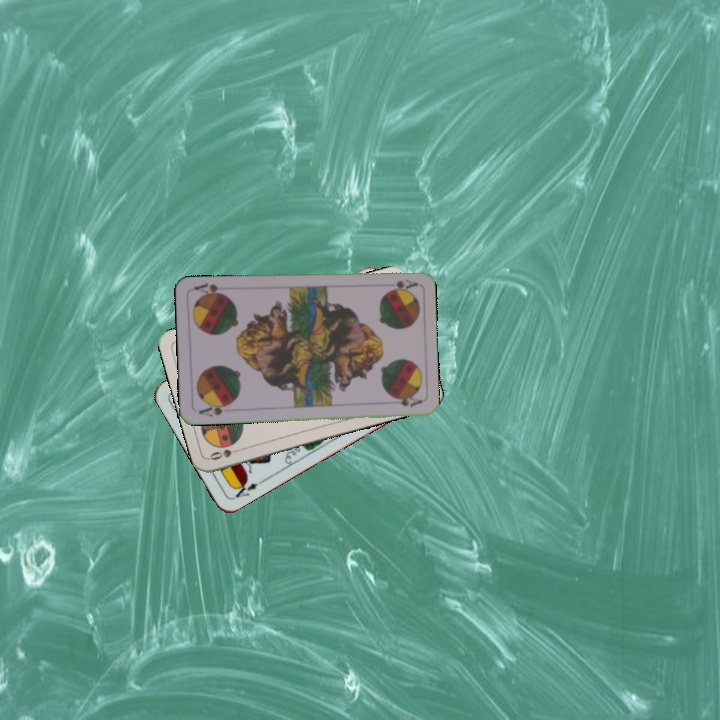EA: (229, 476, 266, 502)
SA: (195, 399, 234, 420), (384, 275, 419, 293)
SO: (206, 444, 246, 463)
